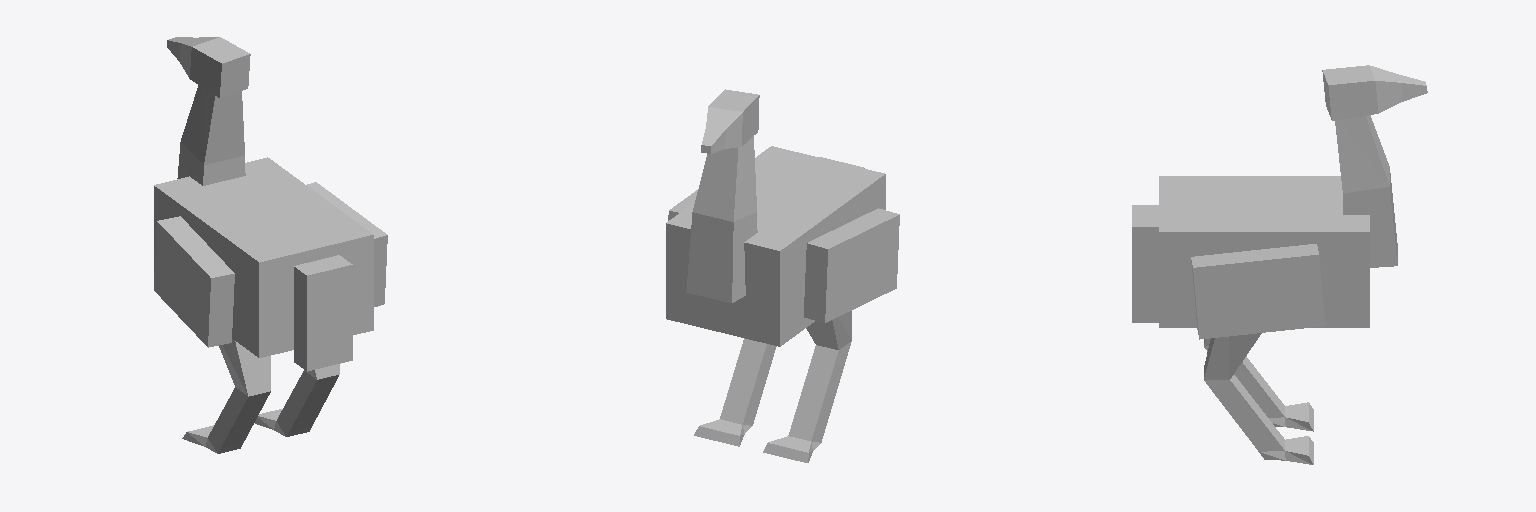
File: Ostrich_000018.obj
3 views of the same model, side by side, from view 1: azimuth 30°, elevation 25°; view 2: azimuth 150°, elevation 25°; view 3: azimuth 270°, elevation 25° (orthographic).
Visible parts, largest first — view 1: Cube_Cube.001; view 2: Cube_Cube.001; view 3: Cube_Cube.001.
Part boxes in pixels (x1,y1,x2,y2): Cube_Cube.001: (154,37,387,453); Cube_Cube.001: (666,89,899,462); Cube_Cube.001: (1132,65,1427,464).
Bounding box in the file's own units: 0.7728 × 1.51 × 1.12.